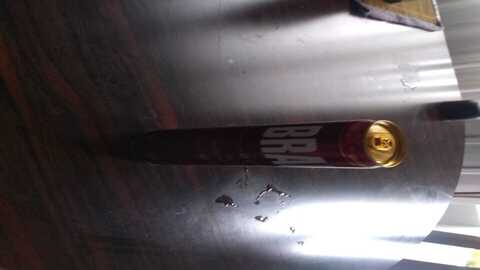duplo_malte: (164, 122, 408, 172)
